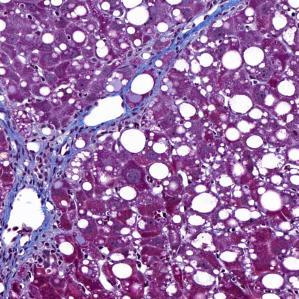fibrosis: (7, 117, 96, 189), (148, 22, 206, 79)
